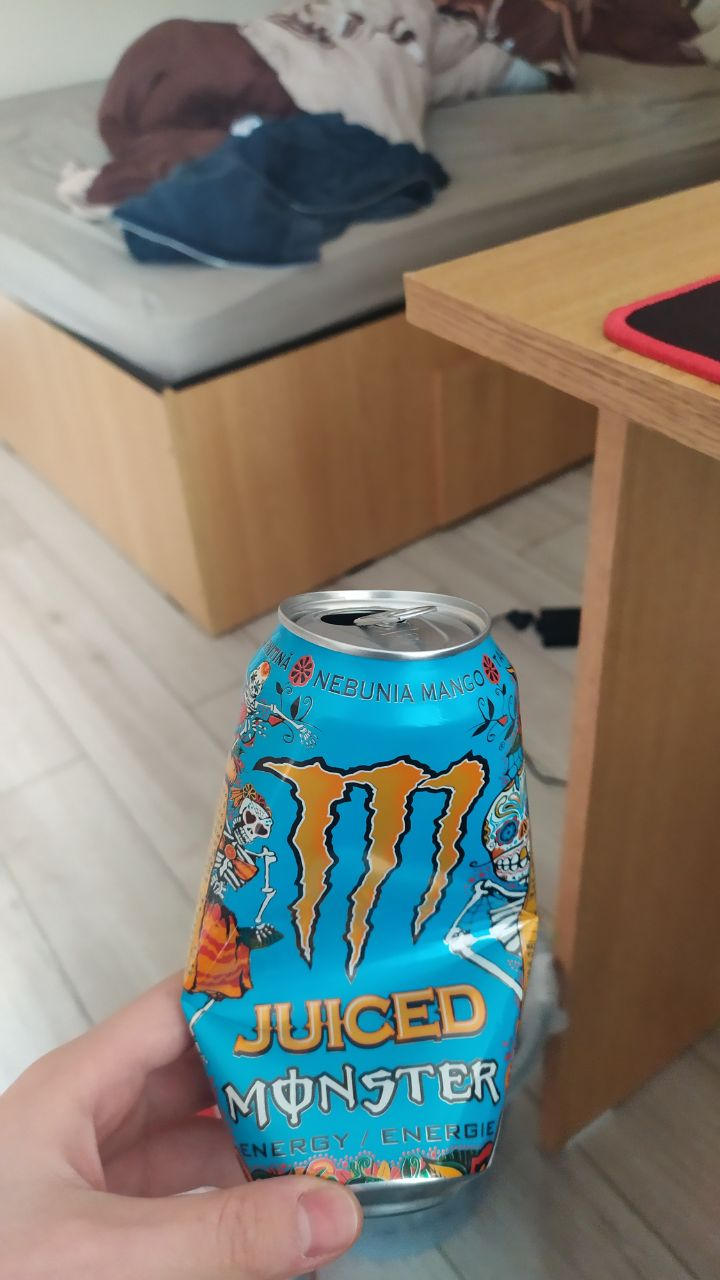Can: (180, 587, 543, 1211)
